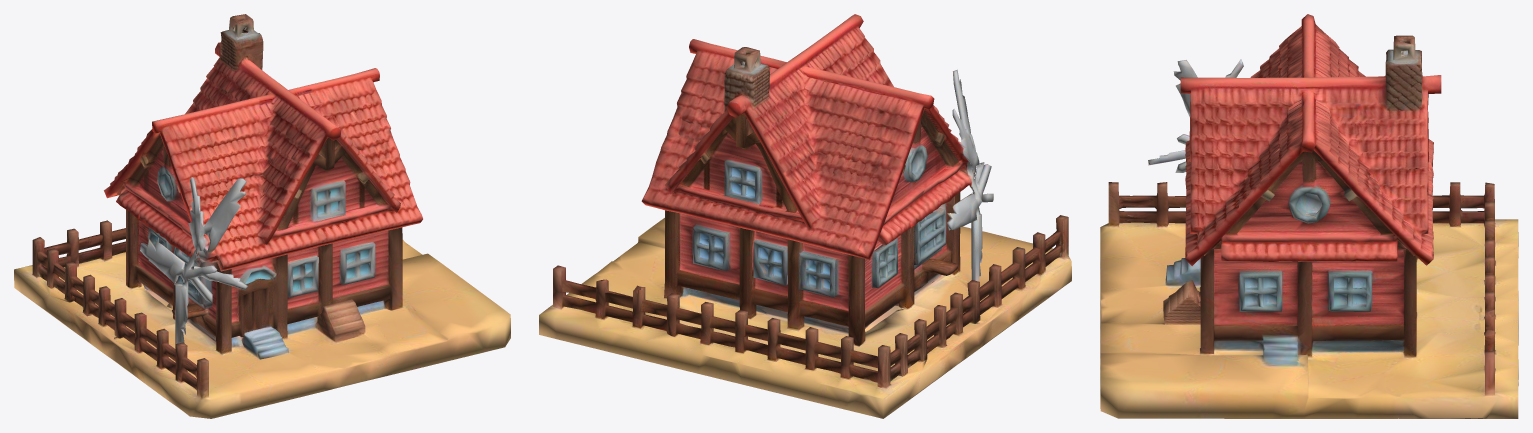
Rendered from townhall.glb.
The picture shows the model from 3 angles, left to right: view 1: azimuth 30°, elevation 25°; view 2: azimuth 150°, elevation 25°; view 3: azimuth 270°, elevation 25°; orthographic projection. The views are drawn at different scales.
Size of the model in its own units: 1.91 by 1.49 by 1.89.
1 material, 1 textured.
